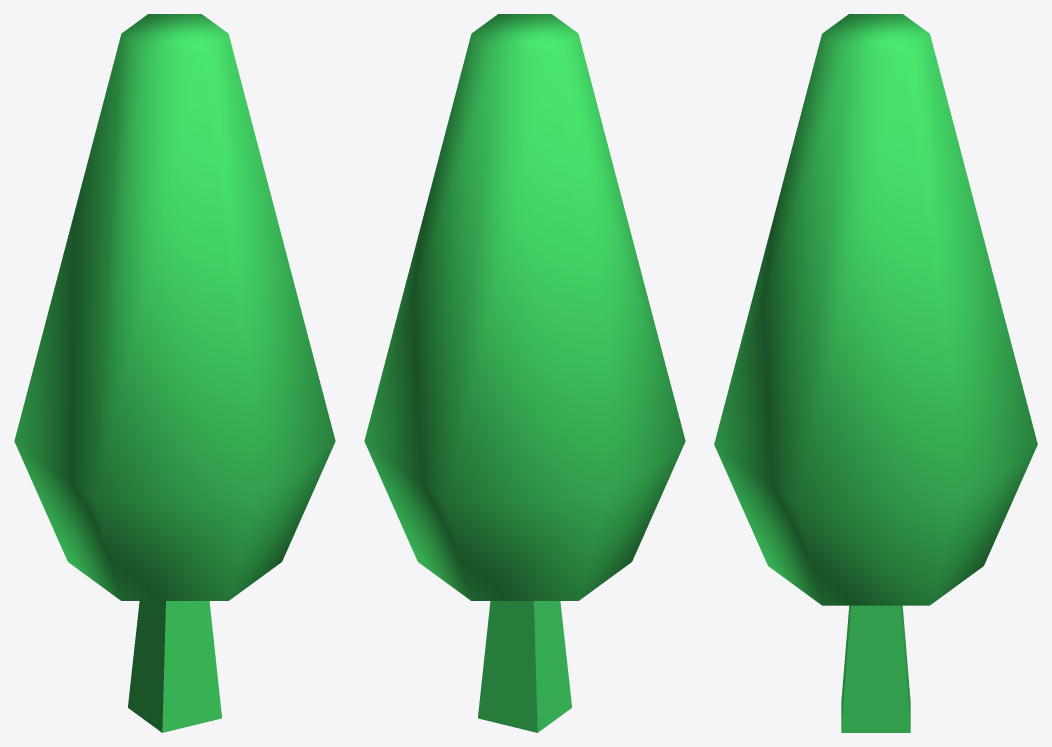
The model's file is tree-small.glb.
3 renders of one model, left to right at view 1: azimuth 30°, elevation 25°; view 2: azimuth 150°, elevation 25°; view 3: azimuth 270°, elevation 25°, orthographic.
Parts seen in each view (by area): view 1: tree-small; view 2: tree-small; view 3: tree-small.
Boxes of the visible parts, left/top/right/bottom form: tree-small: left=14, top=14, right=335, bottom=732; tree-small: left=364, top=14, right=685, bottom=732; tree-small: left=714, top=14, right=1037, bottom=732.
Bounding box in the file's own units: 2.1 × 5.67 × 2.43.
